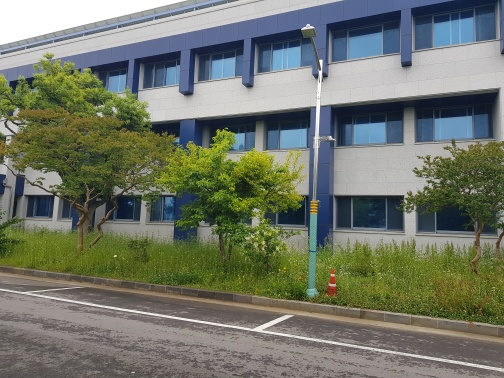College of Social Sciences: (10, 4, 503, 263), (171, 13, 421, 87)
